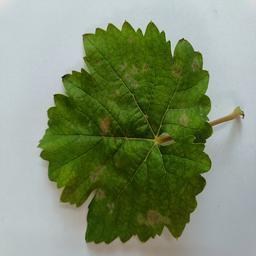Powdery-Mildew: (113, 55, 148, 85), (141, 208, 172, 233), (87, 161, 108, 186), (98, 190, 117, 215), (153, 133, 176, 151), (175, 111, 192, 128), (171, 61, 188, 77), (97, 114, 113, 131)
